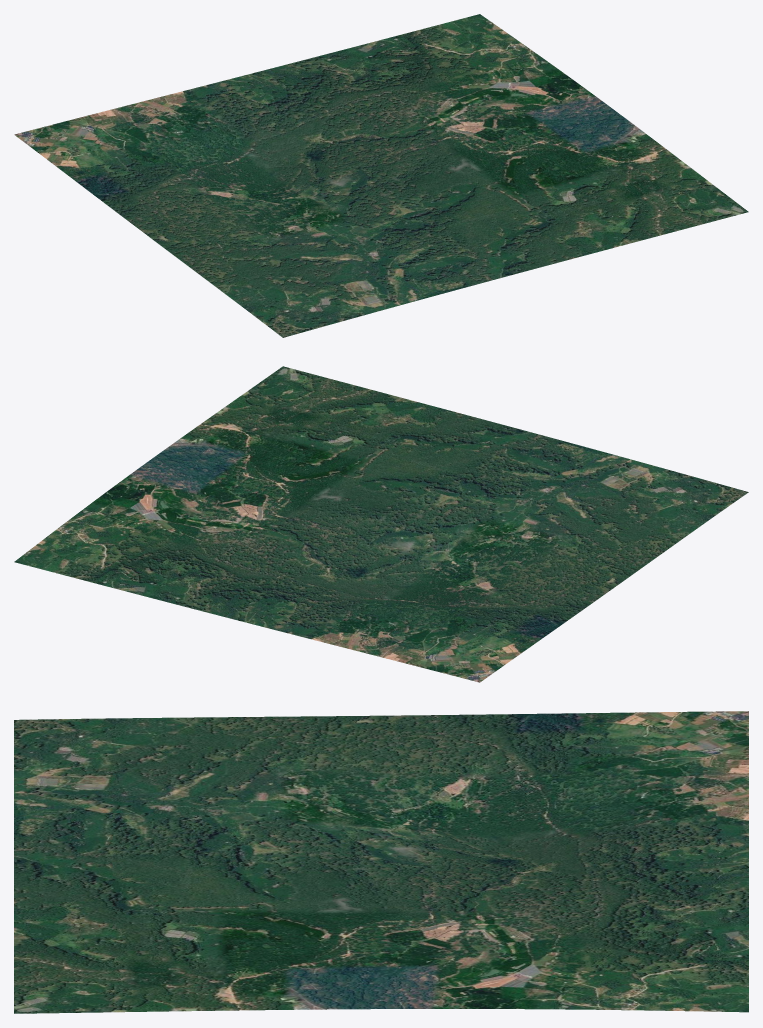
The model's file is terrain_real_T_E05_S04.glb.
3 renders of one model, top to bottom at view 1: azimuth 30°, elevation 25°; view 2: azimuth 150°, elevation 25°; view 3: azimuth 270°, elevation 25°, orthographic. The views are drawn at different scales.
Visible parts, largest first — view 1: Terrain_Real_DEM_T_E05_S04; view 2: Terrain_Real_DEM_T_E05_S04; view 3: Terrain_Real_DEM_T_E05_S04.
Boxes of the visible parts, box(x1,y1,x2,y2) form: Terrain_Real_DEM_T_E05_S04: box(14, 14, 748, 337); Terrain_Real_DEM_T_E05_S04: box(14, 366, 748, 682); Terrain_Real_DEM_T_E05_S04: box(14, 711, 748, 1013).
Size of the model in its own units: 2000 by 89.29 by 2000.
Materials: 1 (1 with a texture image).
